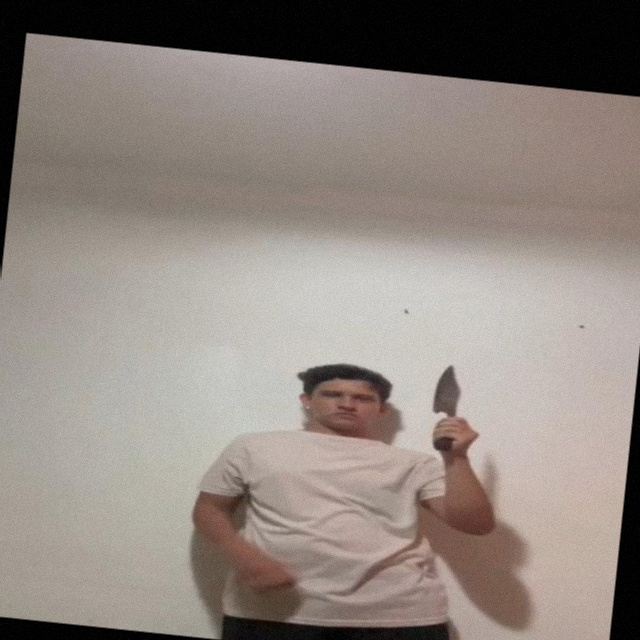Sharp-Object: (426, 363, 464, 415)
